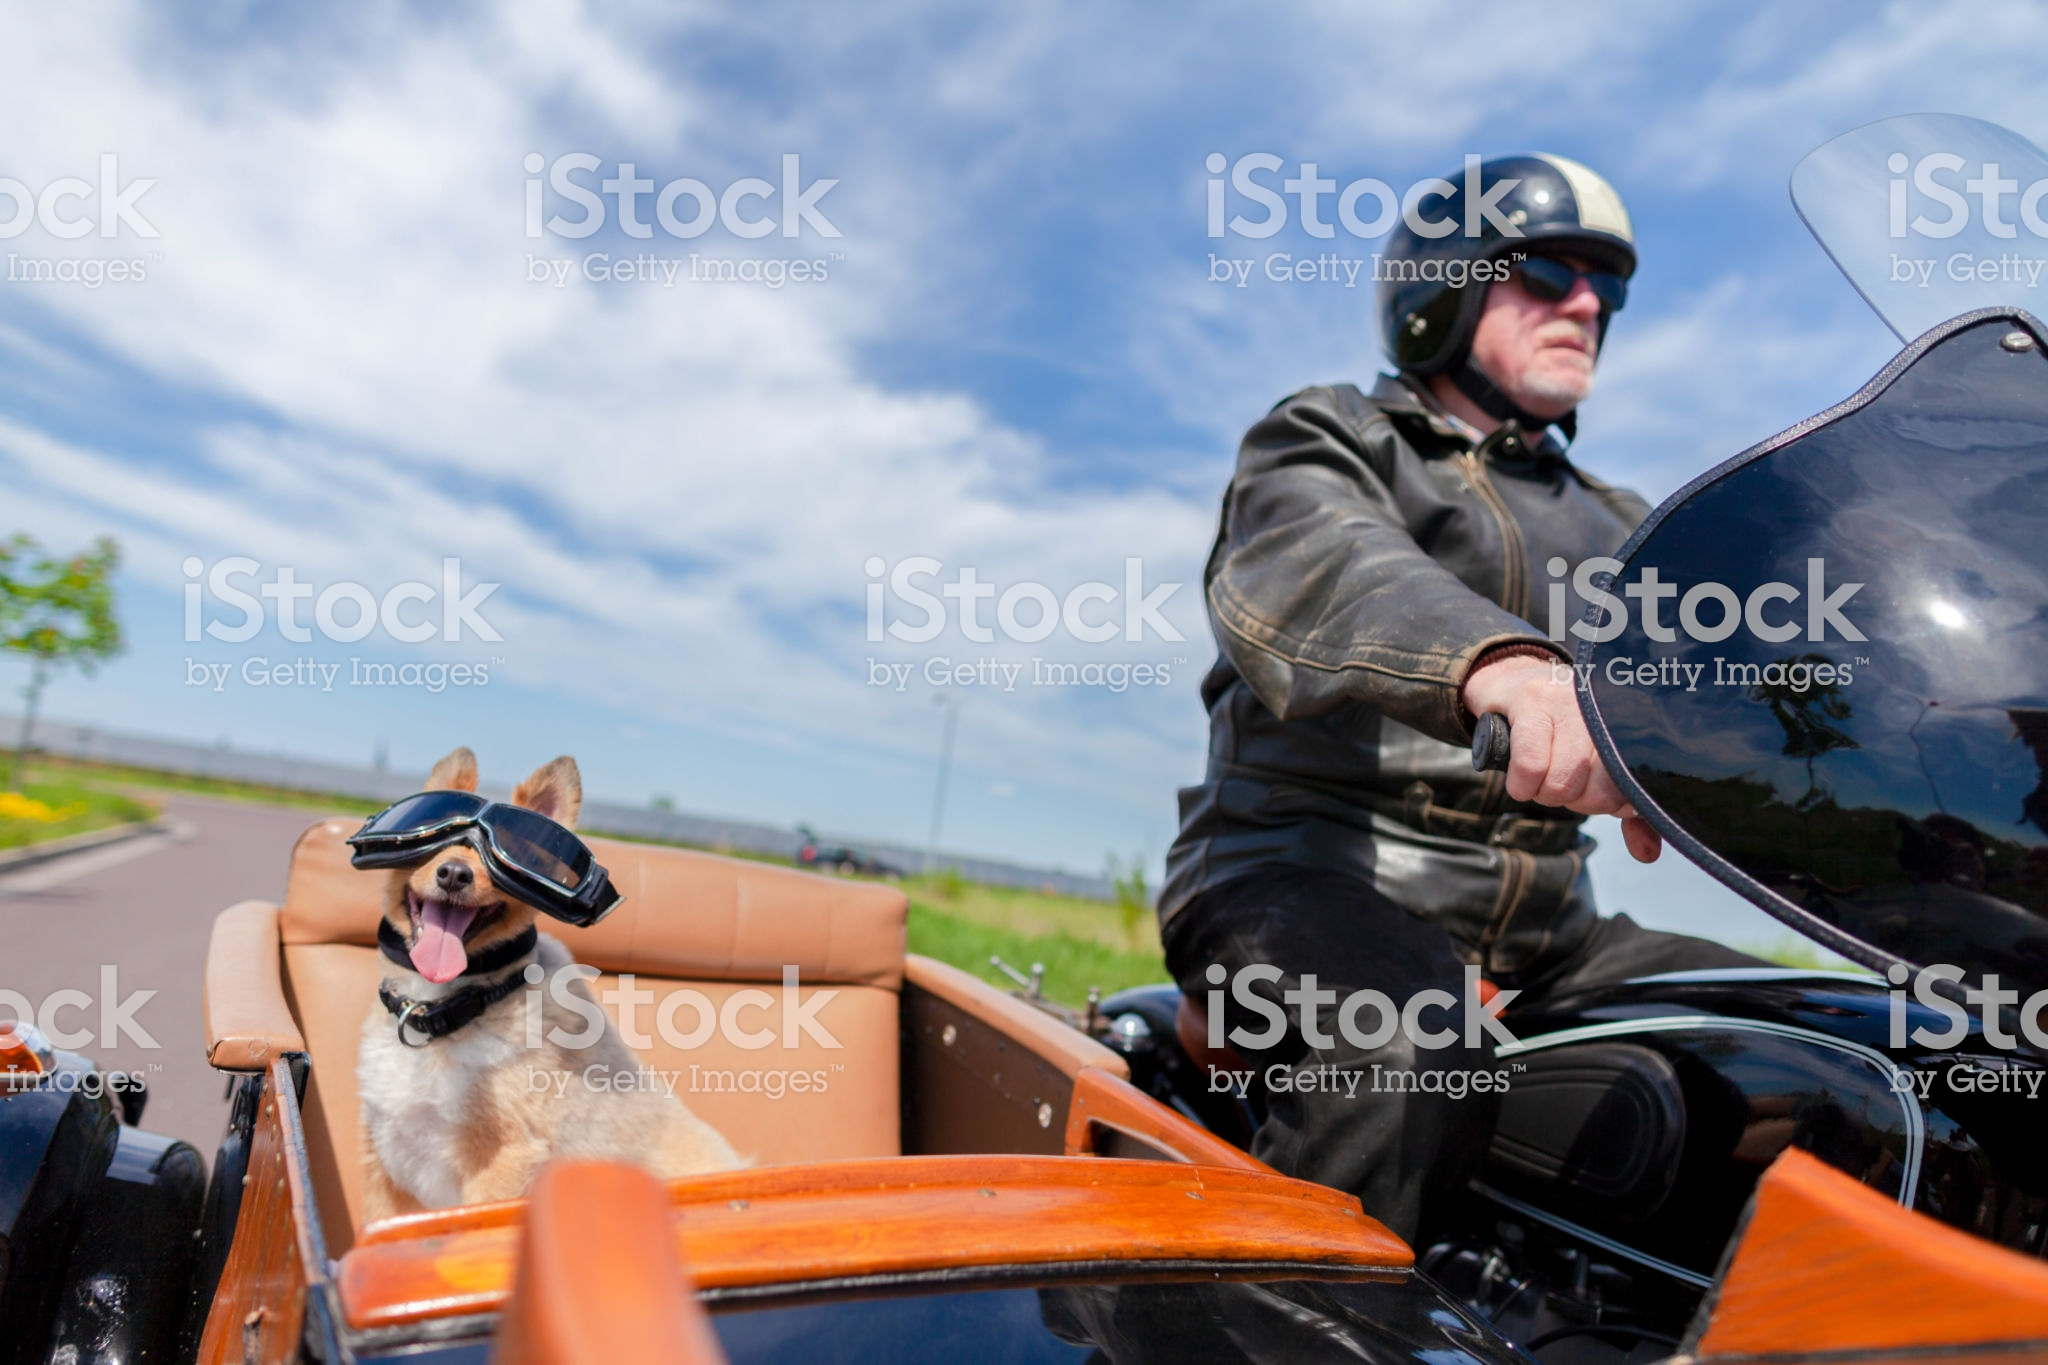helmet: (1346, 117, 1629, 331)
